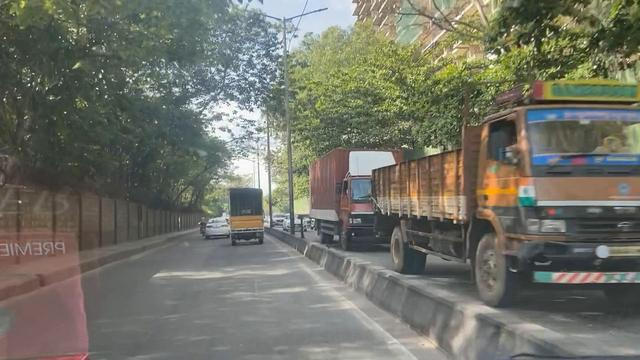HMV: (375, 55, 640, 308), (301, 143, 382, 249), (227, 181, 268, 247)
